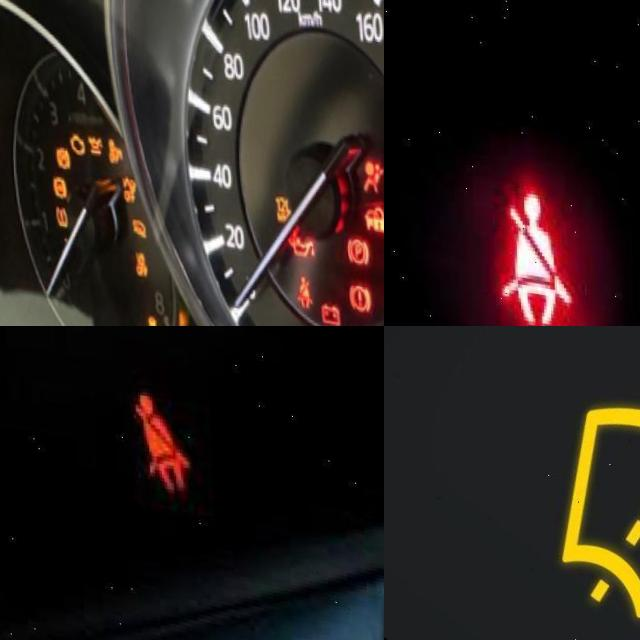Seat Belt: (496, 169, 570, 313), (129, 386, 193, 489), (291, 261, 311, 303)
Washer Fluid: (550, 326, 640, 631)
